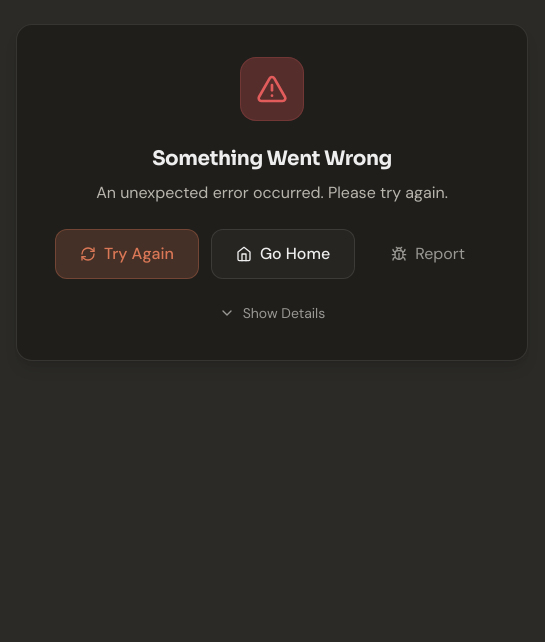
Test: ErrorBoundary › user interactions › should show/hide details when toggle is clicked
The width and height of the screenshot is (545, 642).
Expected: the text "Error Code:" is not shown
# Click to show details
Click the button "Show Details": point(272, 312) [219, 302, 325, 322]
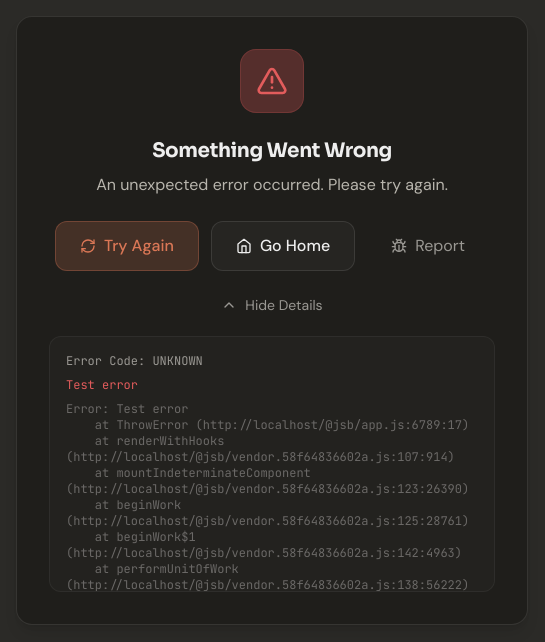
Expected: the text "Error Code: UNKNOWN" is shown, [66, 353, 203, 369]
# Click to hide details
Click the button "Hide Details": point(272, 305) [221, 295, 323, 315]
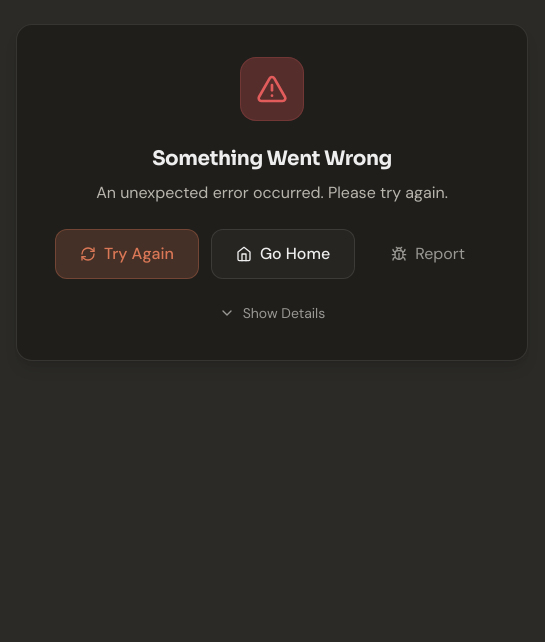
Expected: the text "Error Code:" is gone
